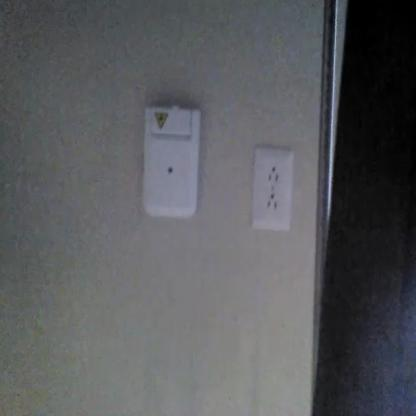OUTLET: (251, 148, 295, 230)
